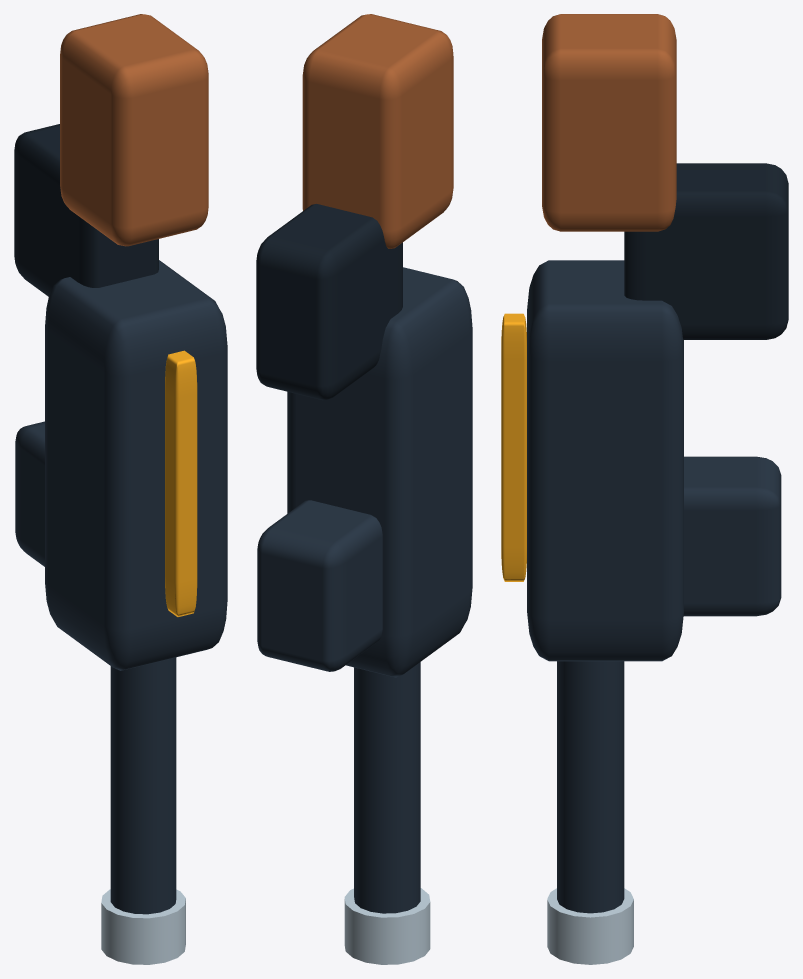
Rendered from rifle-0.glb.
The picture shows the model from 3 angles, left to right: view 1: azimuth 30°, elevation 25°; view 2: azimuth 150°, elevation 25°; view 3: azimuth 270°, elevation 25°; orthographic projection.
Bounding box in the file's own units: 0.19 × 1.35 × 0.3845.
